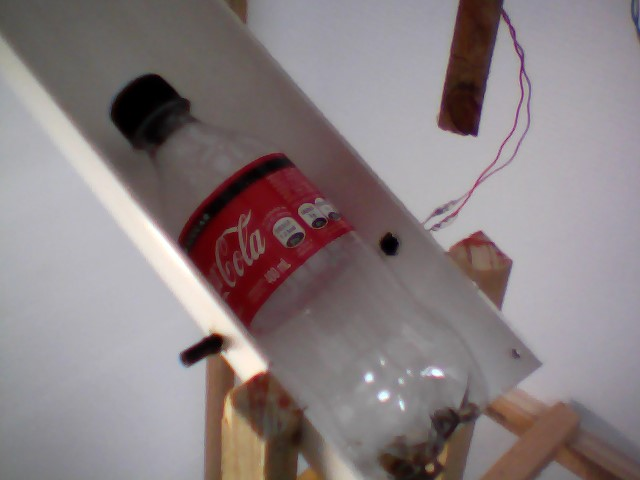plastico: (106, 67, 489, 480)
